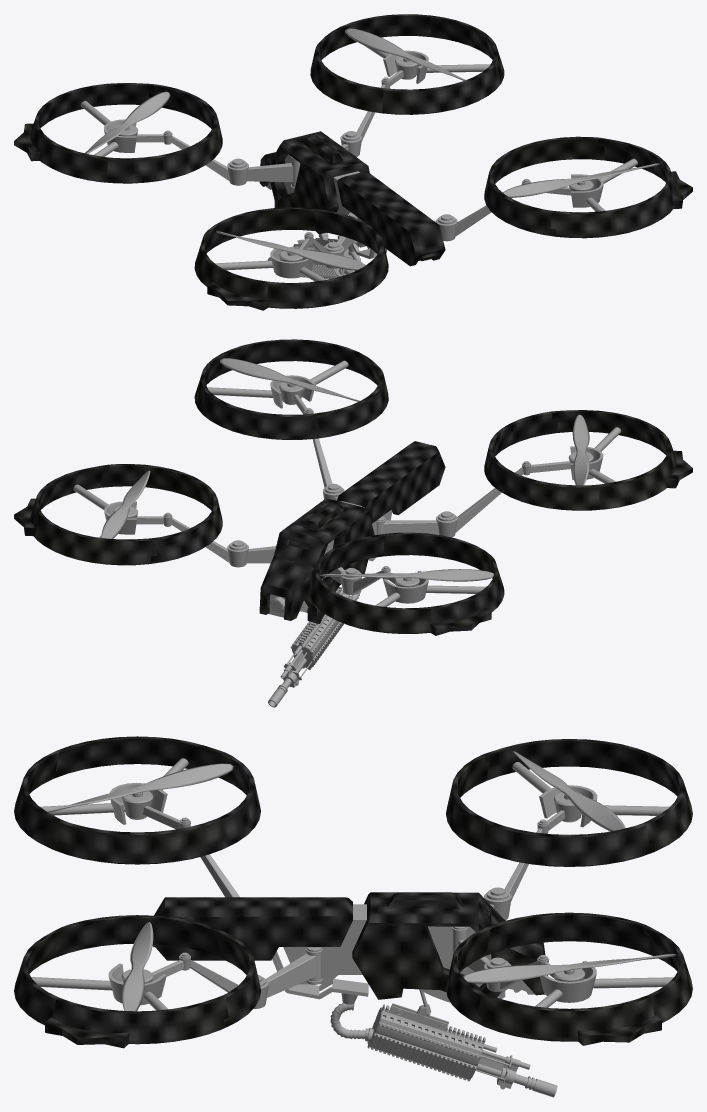
Rendered from Drone.obj.
3 views of the same model, one above another, from view 1: azimuth 30°, elevation 25°; view 2: azimuth 150°, elevation 25°; view 3: azimuth 270°, elevation 25° (orthographic). The views are drawn at different scales.
Parts seen in each view (by area): view 1: Shell_Cylinder38, Frame_Cylinder20, RotorBR_Box06, RotorBL_Box13, RotorFR_Box05, RotorFL_Box10, Weapon_Box16; view 2: Shell_Cylinder38, Frame_Cylinder20, Weapon_Box16, RotorFL_Box10, RotorBR_Box06, RotorBL_Box13, RotorFR_Box05; view 3: Shell_Cylinder38, Frame_Cylinder20, Weapon_Box16, RotorFR_Box05, RotorBL_Box13, RotorFL_Box10, RotorBR_Box06.
Part boxes in pixels (x1,y1,x2,y2): Shell_Cylinder38: (14,14,692,310); Frame_Cylinder20: (80,45,637,281); RotorBR_Box06: (503,163,660,197); RotorBL_Box13: (216,231,365,270); RotorFR_Box05: (345,28,465,80); RotorFL_Box10: (85,91,170,153); Weapon_Box16: (267,232,352,279); Shell_Cylinder38: (14,339,692,635); Frame_Cylinder20: (73,360,621,617); Weapon_Box16: (268,586,352,707); RotorFL_Box10: (320,569,493,581); RotorBR_Box06: (220,358,359,401); RotorBL_Box13: (572,414,589,485); RotorFR_Box05: (101,470,150,538); Shell_Cylinder38: (14,736,692,1048); Frame_Cylinder20: (31,758,673,1039); Weapon_Box16: (365,990,557,1097); RotorFR_Box05: (463,954,676,983); RotorBL_Box13: (46,763,233,812); RotorFL_Box10: (513,751,625,831); RotorBR_Box06: (121,922,153,1011).
Bounding box in the file's own units: 6.62 × 2.36 × 6.53.
8 materials, 1 textured.
